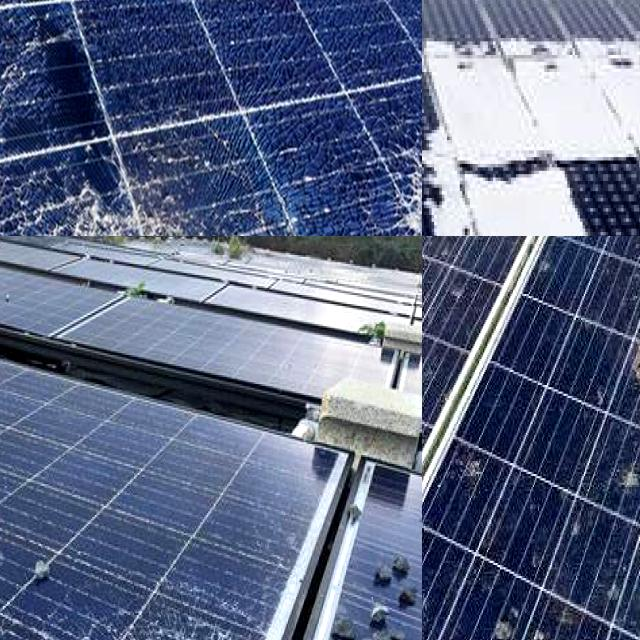bird: (480, 593, 554, 640), (608, 454, 640, 525), (455, 443, 494, 498), (604, 236, 640, 263), (612, 236, 640, 260), (422, 281, 434, 328)
hotspot: (346, 123, 422, 236), (97, 590, 260, 640)
panel: (422, 14, 545, 169), (445, 150, 610, 236), (566, 7, 640, 174), (422, 122, 459, 216), (422, 174, 486, 228), (422, 101, 481, 150), (422, 118, 454, 166)
